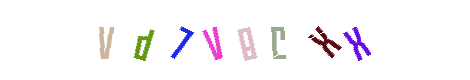7: (162, 0, 242, 80)
8: (194, 0, 274, 80)
C: (197, 0, 277, 80)
D: (143, 0, 223, 80)
V: (105, 0, 185, 80), (181, 0, 261, 80)
X: (285, 0, 365, 80), (309, 0, 389, 80)
